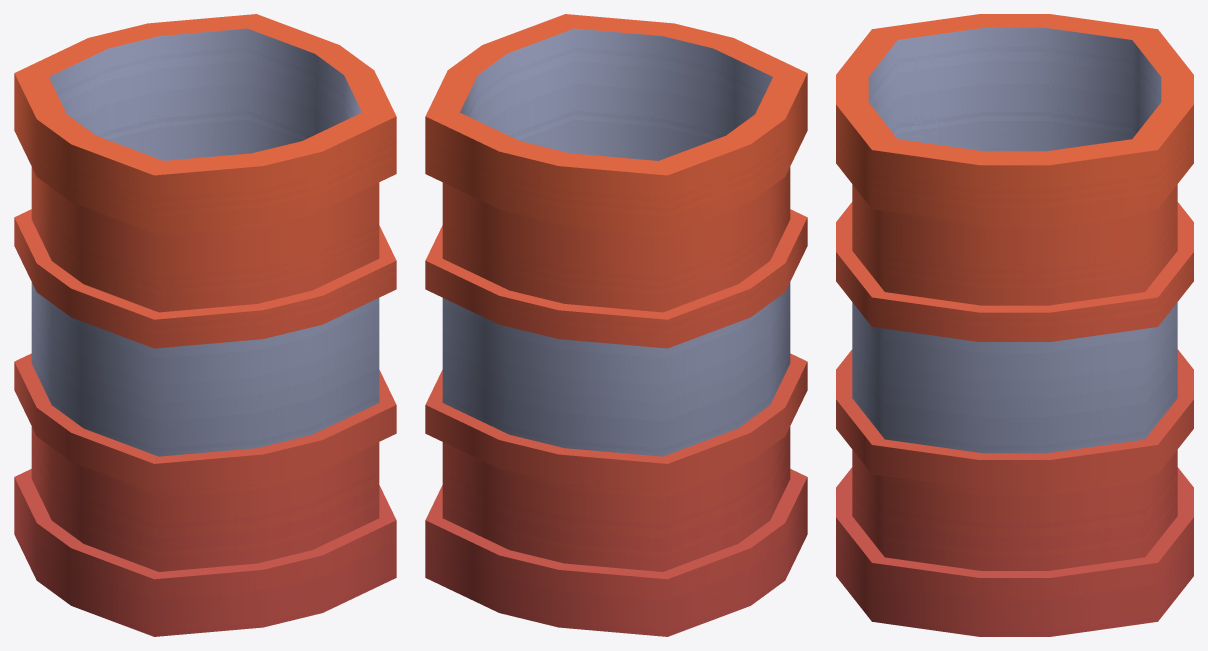
File: barrel-open.glb
3 renders of one model, left to right at view 1: azimuth 30°, elevation 25°; view 2: azimuth 150°, elevation 25°; view 3: azimuth 270°, elevation 25°, orthographic. The views are drawn at different scales.
Visible parts, largest first — view 1: barrel-open; view 2: barrel-open; view 3: barrel-open.
Boxes of the visible parts, box(x1,y1,x2,y2) form: barrel-open: box(14, 14, 396, 636); barrel-open: box(425, 14, 807, 636); barrel-open: box(836, 14, 1193, 636).
Size of the model in its own units: 1.19 by 1.73 by 1.19.
Materials: 1 (1 with a texture image).
